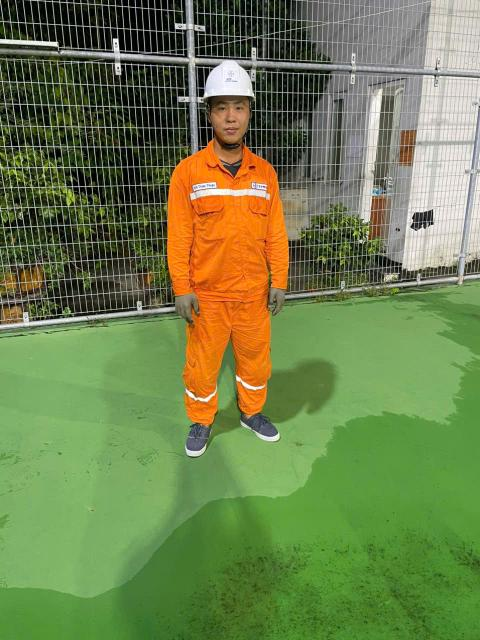harness: (166, 291, 212, 326), (260, 286, 290, 317)
helmet: (196, 44, 265, 103)
shoes: (236, 401, 298, 453), (181, 415, 216, 462)
